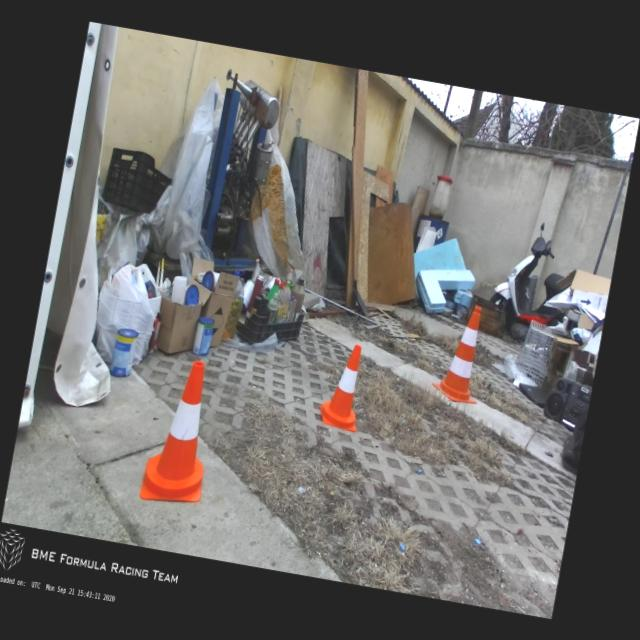large_orange_cone: (430, 300, 492, 405)
orange_cone: (140, 355, 223, 506), (316, 340, 370, 432)
